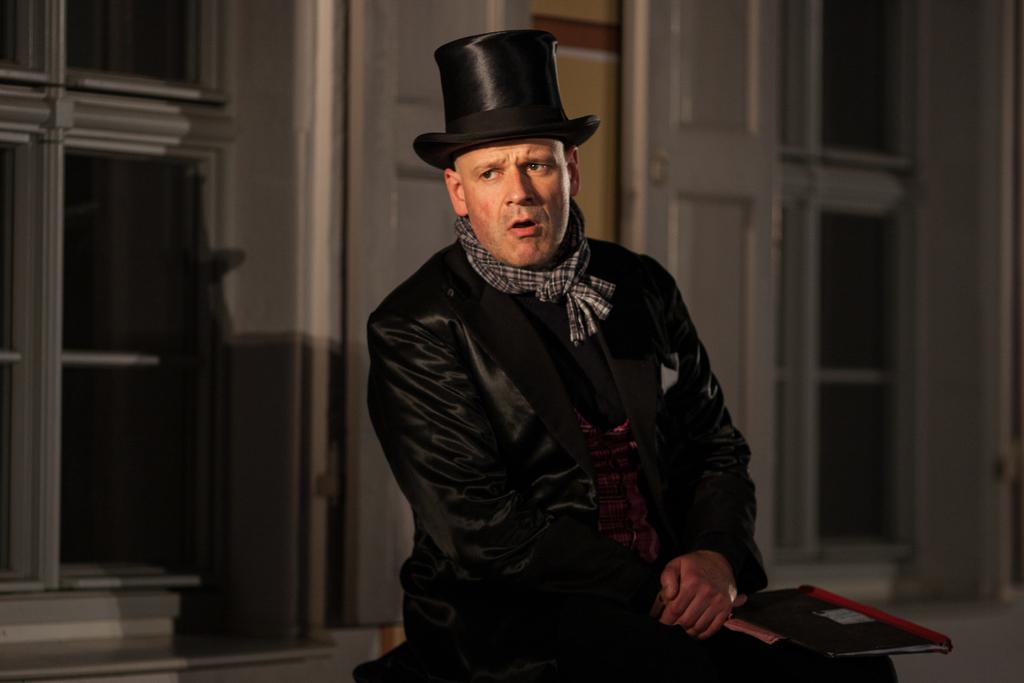Hat: (412, 34, 602, 170)
